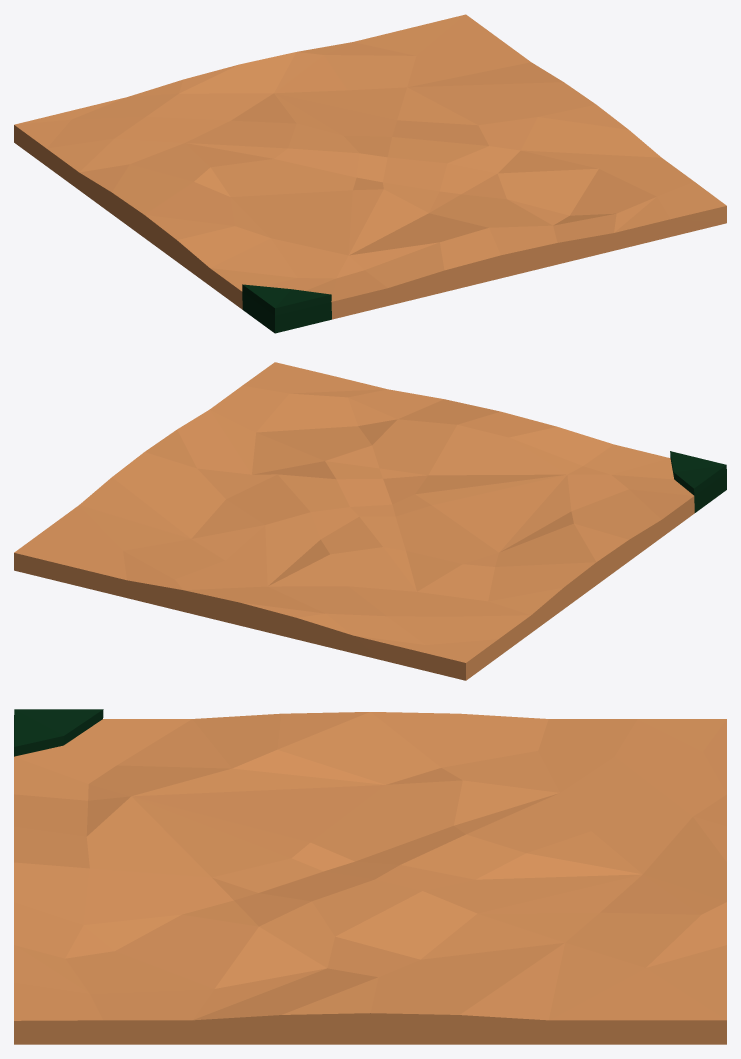
File: Road_green_4.FBX
The picture shows the model from 3 angles, top to bottom: view 1: azimuth 30°, elevation 25°; view 2: azimuth 150°, elevation 25°; view 3: azimuth 270°, elevation 25°; orthographic projection. The views are drawn at different scales.
Parts seen in each view (by area): view 1: Road_green_4; view 2: Road_green_4; view 3: Road_green_4.
Boxes of the visible parts, x1,y1,x2,y2 form: Road_green_4: (14, 14, 726, 333); Road_green_4: (14, 362, 726, 680); Road_green_4: (14, 709, 726, 1044).
Size of the model in its own units: 1.5 by 0.0837 by 1.5.
1 material, 1 textured.
